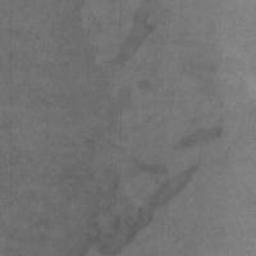Water spot: (0, 0, 196, 256), (179, 122, 224, 150), (128, 154, 168, 179), (136, 77, 151, 92)
